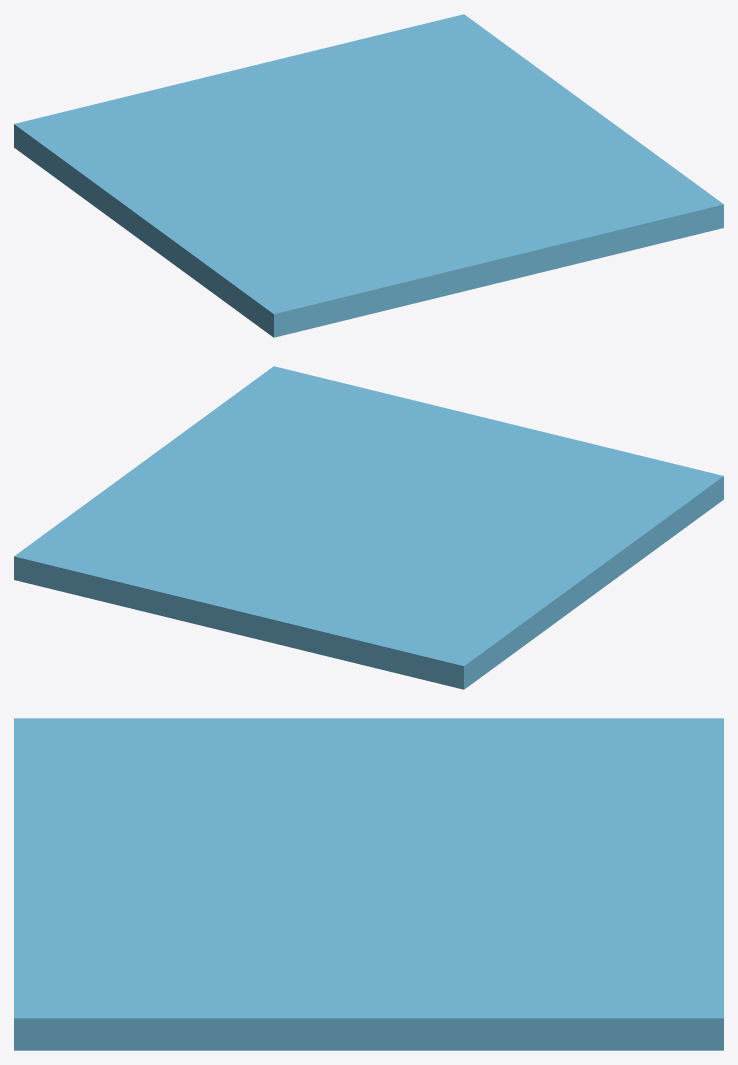
Rendered from selected.glb.
3 views of the same model, one above another, from view 1: azimuth 30°, elevation 25°; view 2: azimuth 150°, elevation 25°; view 3: azimuth 270°, elevation 25° (orthographic). The views are drawn at different scales.
Visible parts, largest first — view 1: selected; view 2: selected; view 3: selected.
Part boxes in pixels (<box>): selected: <box>14,14,723,337</box>; selected: <box>14,366,723,689</box>; selected: <box>14,718,723,1050</box>.
Bounding box in the file's own units: 2.07 × 0.1033 × 2.07.
